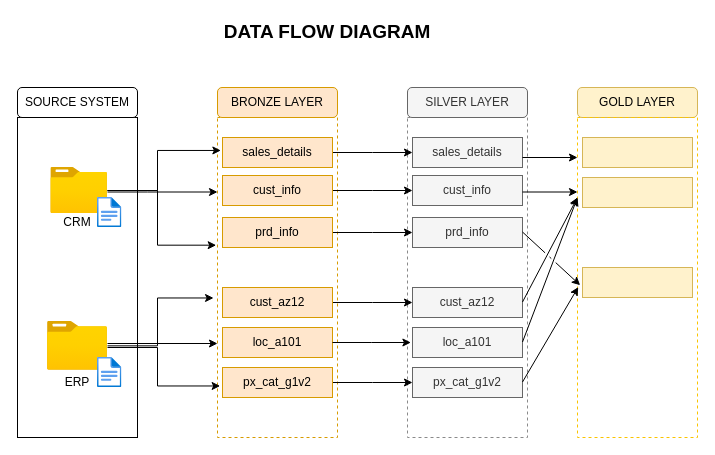
This 715x455 diagram has some shape labels left out. The box of each missing label's shape, as (x1, y1, x2, y2) in pixels:
dim_customers: (582, 176, 692, 208)
dim_products: (582, 266, 692, 298)
fact_sales: (582, 136, 692, 168)
